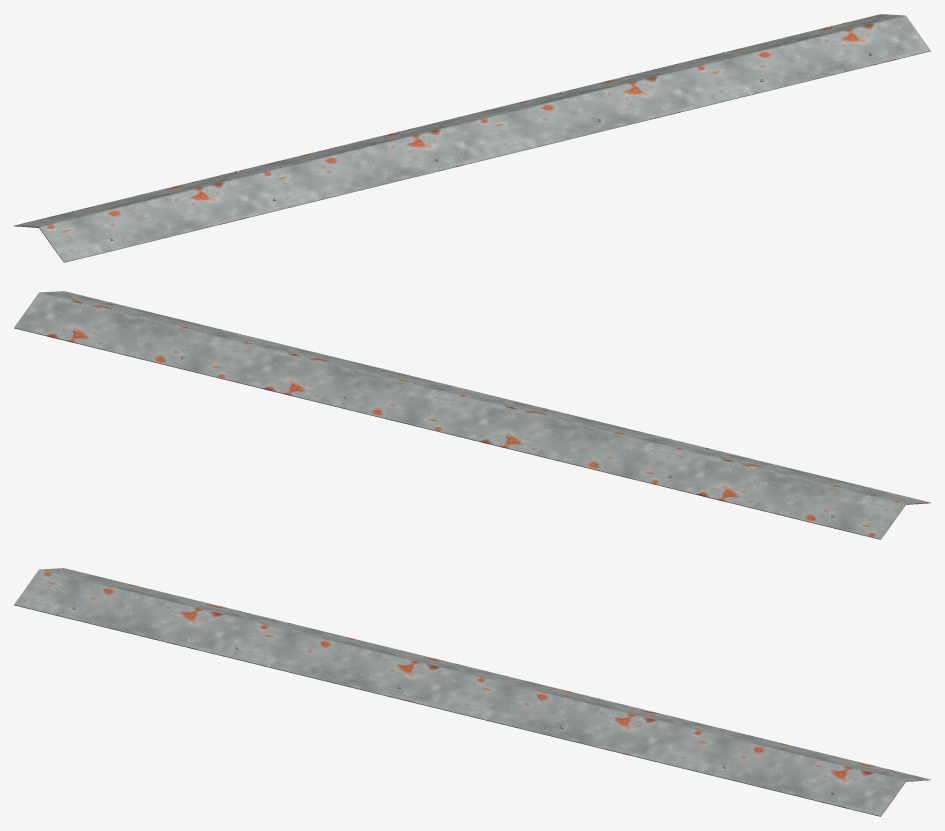
Rendered from ROOF_RIDGE_CAP_4000.glb.
3 renders of one model, top to bottom at view 1: azimuth 30°, elevation 25°; view 2: azimuth 150°, elevation 25°; view 3: azimuth 330°, elevation 25°, orthographic.
Parts seen in each view (by area): view 1: ROOF_RIDGE_CAP_4000__RidgeCap_FoldedSheet; view 2: ROOF_RIDGE_CAP_4000__RidgeCap_FoldedSheet; view 3: ROOF_RIDGE_CAP_4000__RidgeCap_FoldedSheet.
Part boxes in pixels (<box>): ROOF_RIDGE_CAP_4000__RidgeCap_FoldedSheet: <box>14,14,930,262</box>; ROOF_RIDGE_CAP_4000__RidgeCap_FoldedSheet: <box>14,291,930,539</box>; ROOF_RIDGE_CAP_4000__RidgeCap_FoldedSheet: <box>14,568,930,816</box>.
Size of the model in its own units: 4 by 0.076 by 0.4.
1 material, 1 textured.
